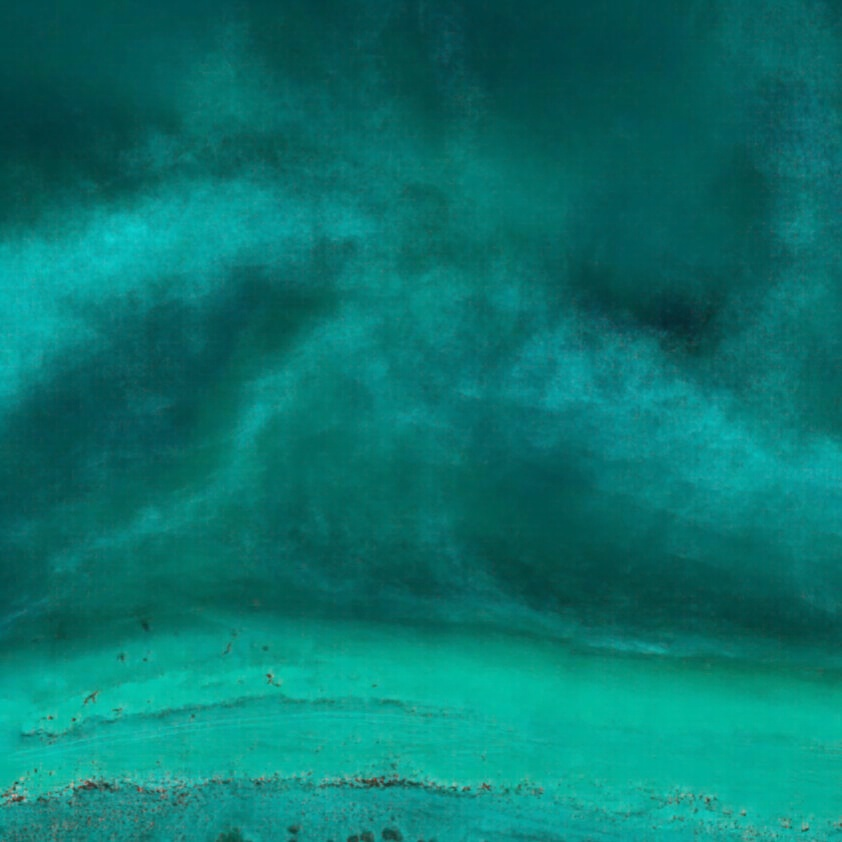rip_current: (243, 90, 511, 610)
